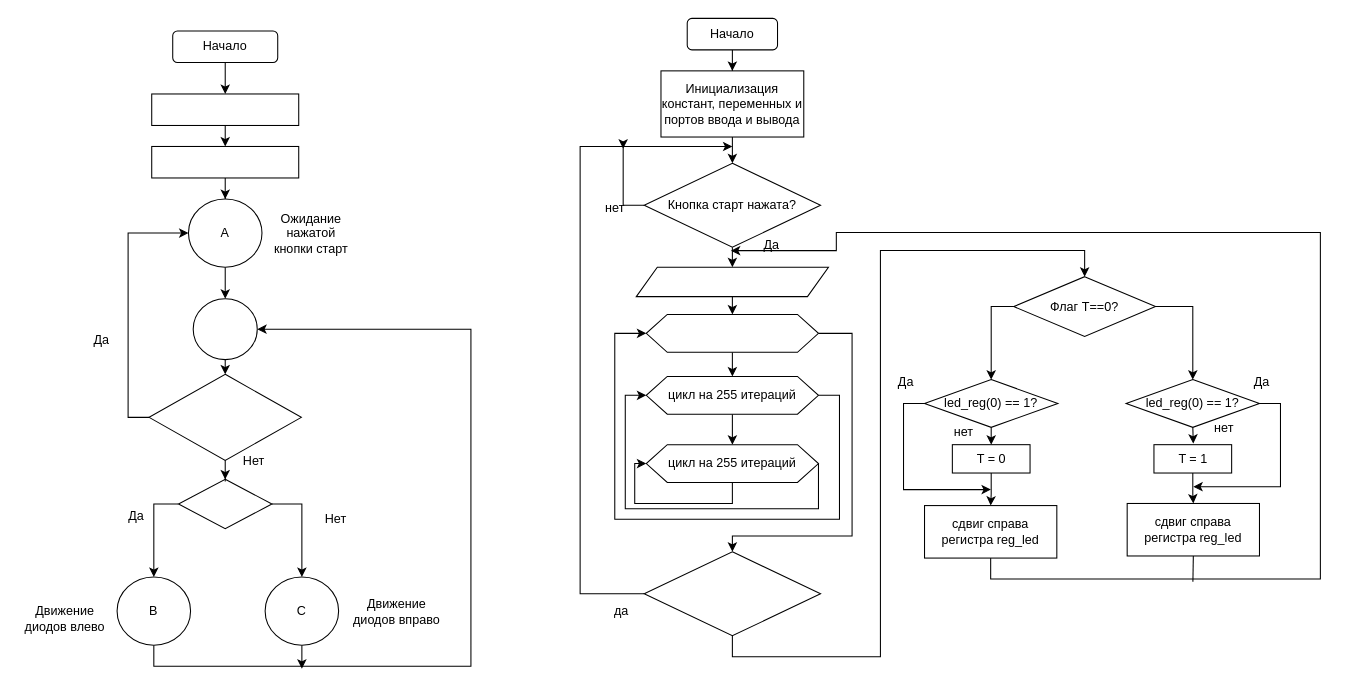
Some shapes in this 1347 by 696 pixel diagram are drawn without their labels. The box of each missing label's shape, as (x1, y1, x2, y2) in pixels:
Вывод на индикаторы: (635, 266, 828, 297)
Двигаться влево?: (177, 478, 272, 529)
Задержка: (192, 298, 257, 360)
Инициализация флагов: (151, 93, 299, 125)
Кнопка стоп нажата?: (643, 551, 821, 636)
Нажата кнопка стоп?: (148, 373, 301, 460)
Подключение выходов и выходов: (151, 145, 299, 178)
цикл на 11 итераций: (645, 313, 818, 352)
